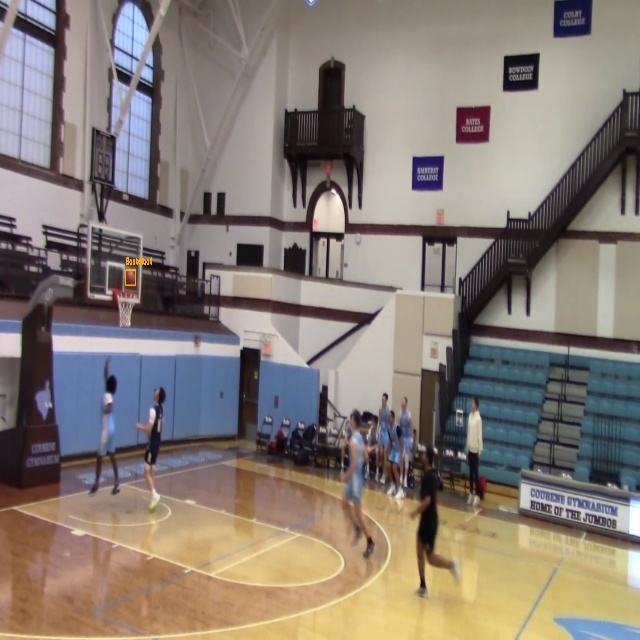Basketball: (126, 270, 135, 285)
